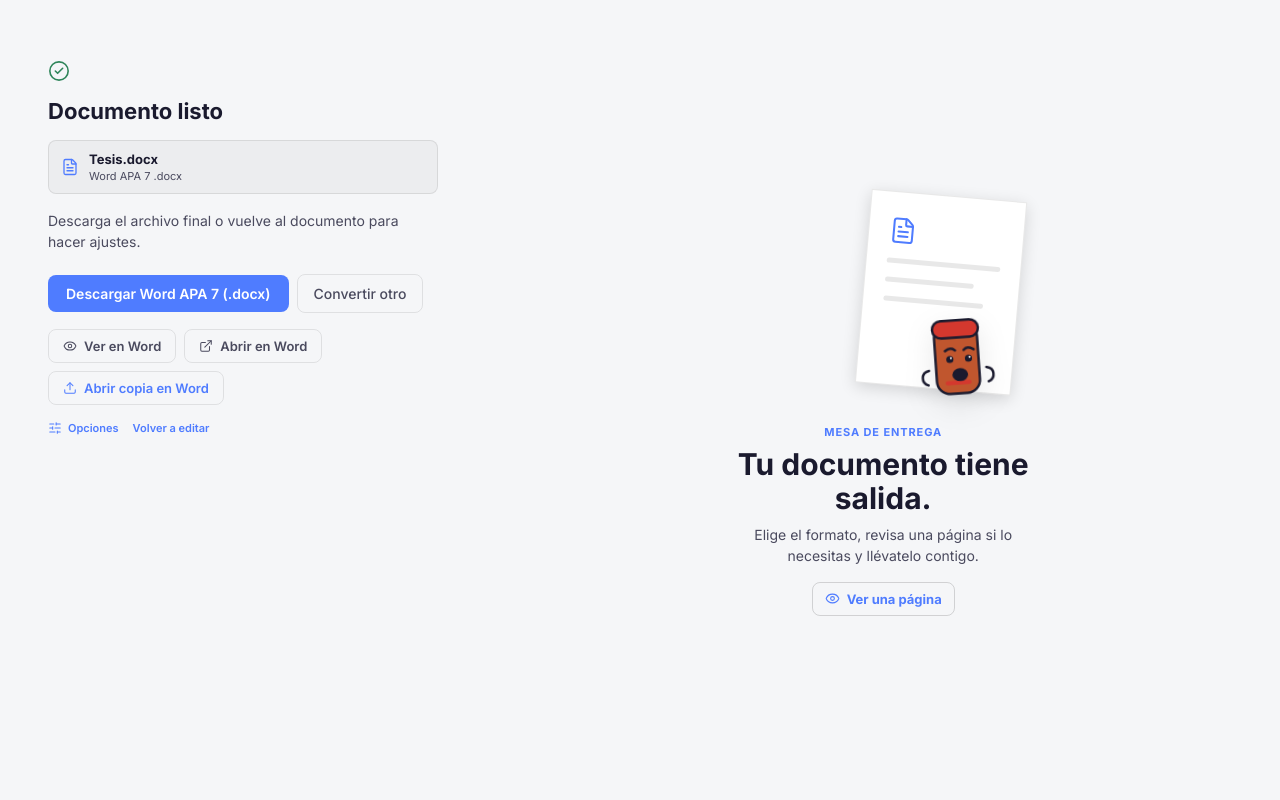
Test: la copia de trabajo en Word › la confirmacion se puede cerrar sin mandar nada
What coordinates should you click on to do the following:
click the button "Abrir copia en Word"
I would click on:
 (136, 388)
Its box is [48,371,224,405].
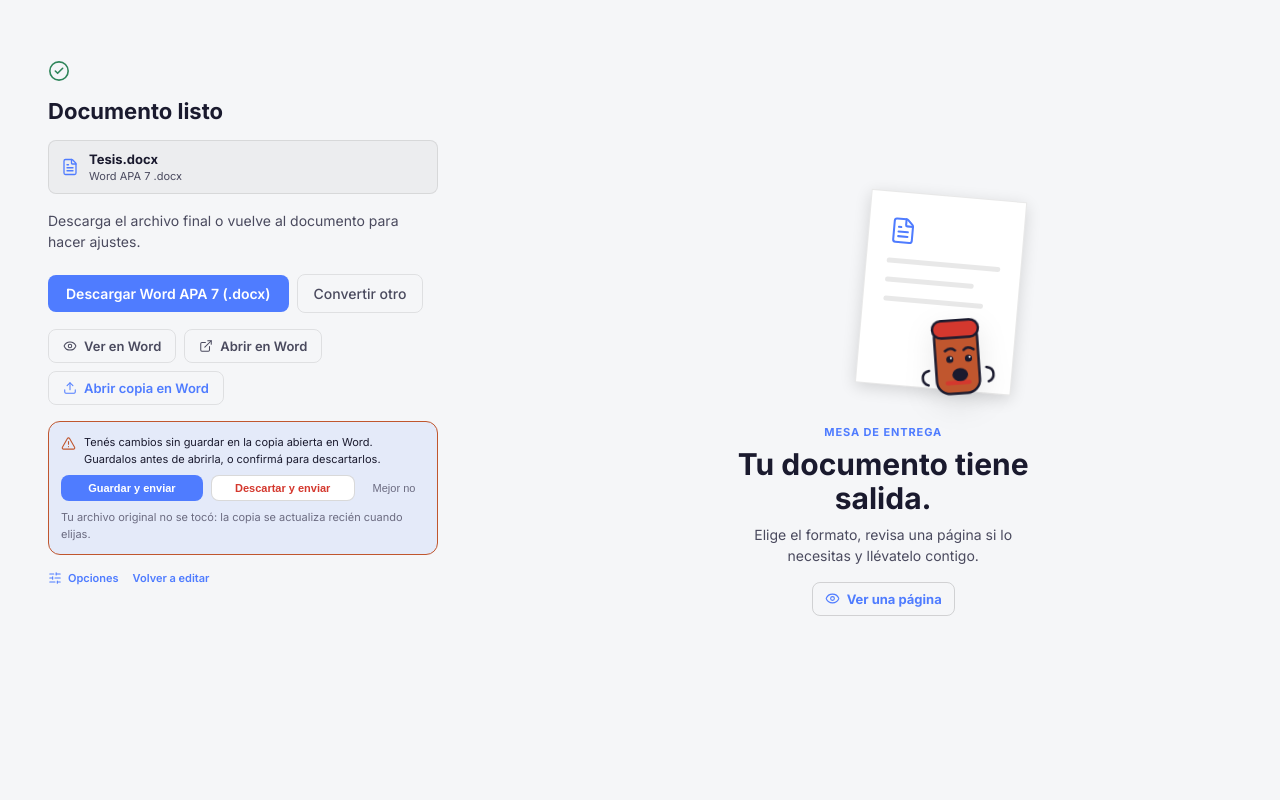
Check: the dialog with test id "confirmacion-sin-guardar" is shown, box [48,421,438,555]
What coordinates should you click on to do the following:
click the button "Mejor no"
I would click on:
 (394, 488)
Its box is [363,475,425,501].
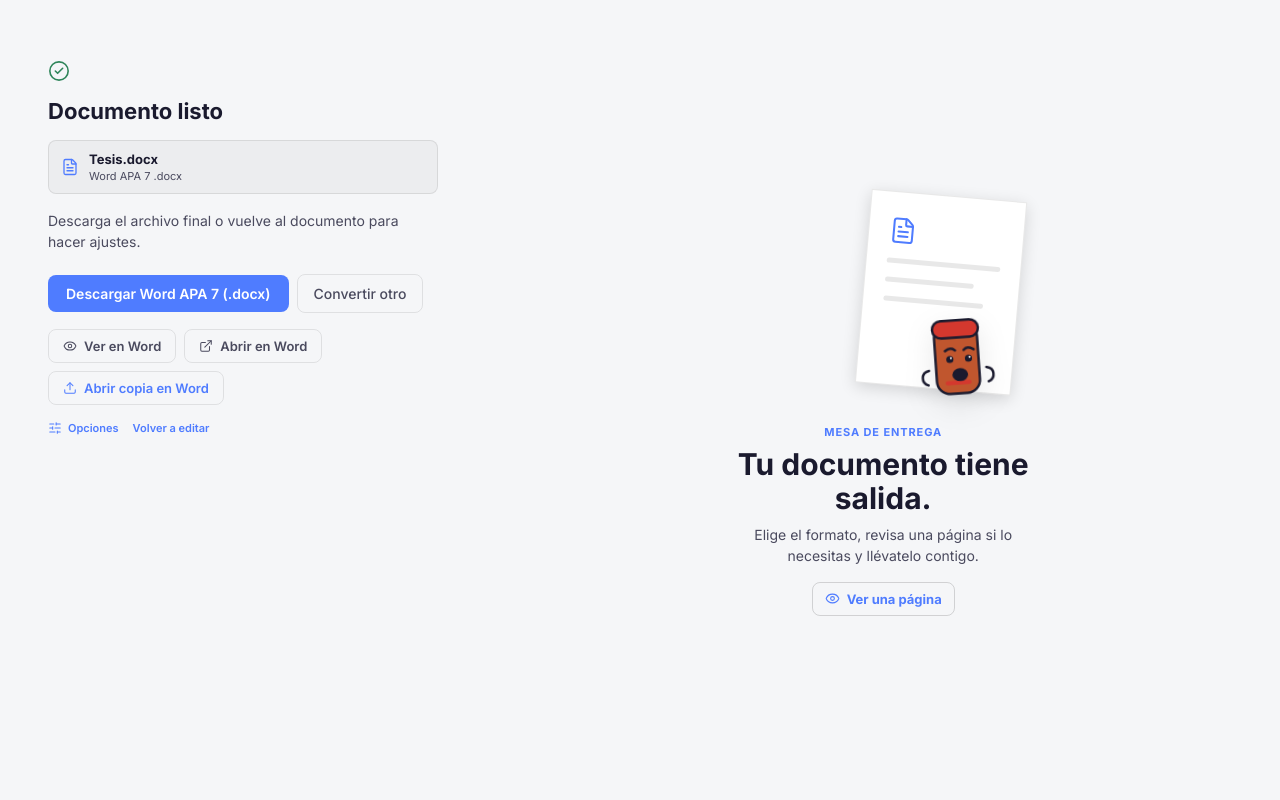
Check: the dialog with test id "confirmacion-sin-guardar" is gone
